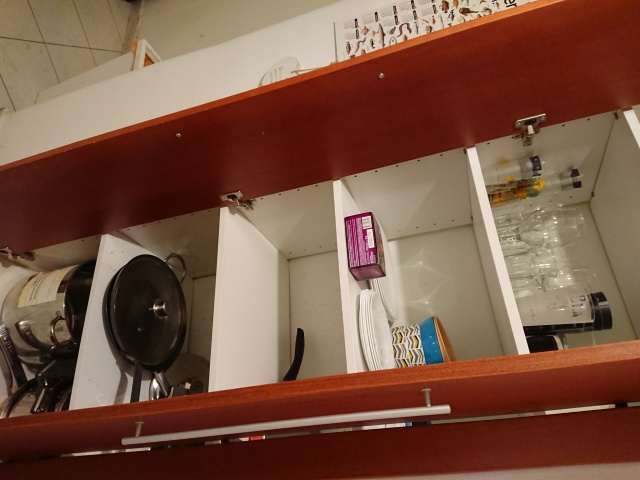Franck Black Currant Tea 60g: (341, 209, 388, 283)
